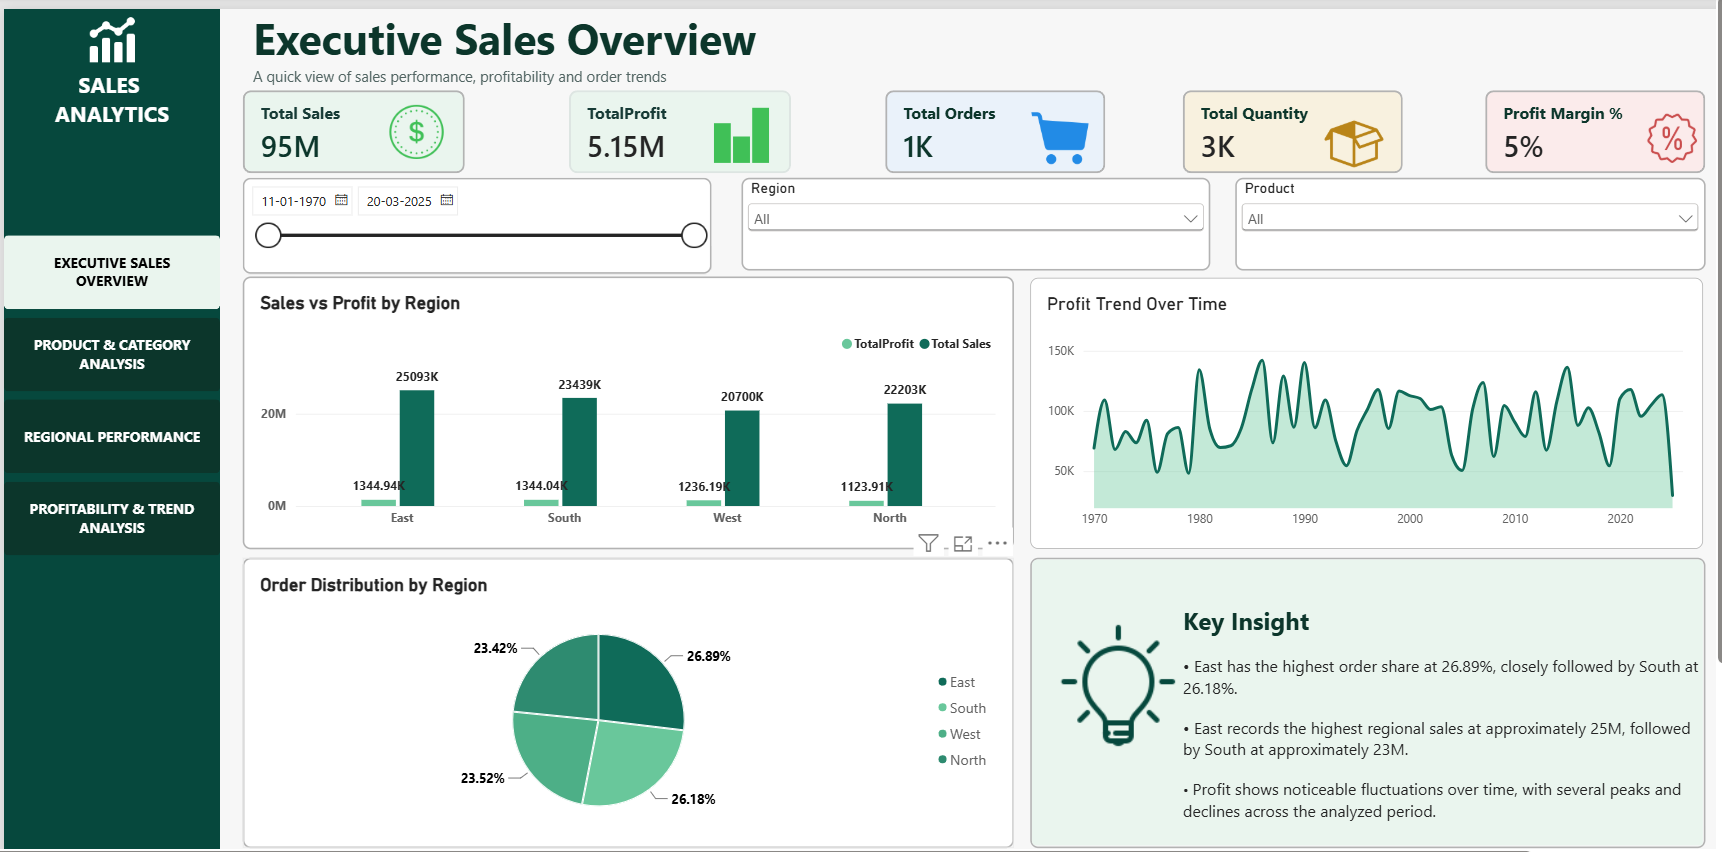

This screenshot's page, from the dashboard's own definition file:
{"tool":"powerbi","page":{"name":"EXECUTIVE SALES OVERVIEW   ","canvas":[1920,1080],"ordinal":1},"visuals":[{"type":"cardVisual","fields":{"Data":["SalesData_1000Rows_WithIssues_copy.Total Sales"]},"box":[238.8,81.2,222.5,83.8],"z":0},{"type":"cardVisual","fields":{"Data":["SalesData_1000Rows_WithIssues_copy.TotalProfit"]},"box":[565,81.2,222.5,83.8],"z":1000},{"type":"cardVisual","fields":{"Data":["SalesData_1000Rows_WithIssues_copy.Total Orders"]},"box":[881.2,81.2,220,83.8],"z":2000},{"type":"cardVisual","fields":{"Data":["SalesData_1000Rows_WithIssues_copy.Total Quantity"]},"box":[1178.8,81.2,220,83.8],"z":3000},{"type":"cardVisual","fields":{"Data":["SalesData_1000Rows_WithIssues_copy.Profit Margin %"]},"box":[1481.2,81.2,220,83.8],"z":4000},{"type":"slicer","fields":{"Values":["SalesData_1000Rows_WithIssues_copy.Region"]},"box":[737.5,168.8,468.8,92.5],"z":5000},{"type":"slicer","fields":{"Values":["SalesData_1000Rows_WithIssues_copy.Product"]},"box":[1231.2,168.8,470,92.5],"z":6000},{"type":"slicer","fields":{"Values":["SalesData_1000Rows_WithIssues_copy.OrderDate"]},"box":[238.8,168.8,468.8,96.2],"z":7000},{"type":"clusteredColumnChart","title":"Sales vs Profit by Region","fields":{"Category":["SalesData_1000Rows_WithIssues_copy.Region"],"Y":["SalesData_1000Rows_WithIssues_copy.TotalProfit","SalesData_1000Rows_WithIssues_copy.Total Sales"]},"box":[238.8,267.5,771.2,272.5],"z":8000},{"type":"areaChart","title":"Profit Trend Over Time","fields":{"Category":["SalesData_1000Rows_WithIssues_copy.OrderDate.Variation.Date Hierarchy.Year","SalesData_1000Rows_WithIssues_copy.OrderDate.Variation.Date Hierarchy.Quarter","SalesData_1000Rows_WithIssues_copy.OrderDate.Variation.Date Hierarchy.Month"],"Y":["SalesData_1000Rows_WithIssues_copy.TotalProfit"]},"box":[1026.2,268.8,672.5,271.2],"z":9000},{"type":"pieChart","title":"Order Distribution by Region","fields":{"Category":["SalesData_1000Rows_WithIssues_copy.Region"],"Y":["CountNonNull(SalesData_1000Rows_WithIssues_copy.OrderID)"]},"box":[238.8,548.8,771.2,290],"z":10000},{"type":"shape","box":[0,0,216.2,858.8],"z":11000},{"type":"image","box":[66.2,0,83.8,61.2],"z":12000},{"type":"textbox","box":[0,61.2,216.2,60],"z":13000},{"type":"textbox","box":[248.8,0,1521.2,81.2],"z":14000},{"type":"image","box":[373.8,73.8,77.5,98.8],"z":15000},{"type":"image","box":[707.5,87.5,60,72.5],"z":16000},{"type":"image","box":[1026.2,78.8,63.8,101.2],"z":17000},{"type":"image","box":[1320,92.5,60,72.5],"z":18000},{"type":"image","box":[1635,102.5,66.2,53.8],"z":19000},{"type":"shape","box":[1026.2,548.8,675,290],"z":20000},{"type":"textbox","box":[1178.8,595,542.5,243.8],"z":21000},{"type":"pageNavigator","box":[0,226.2,216.2,322.5],"z":22000},{"type":"image","box":[1050,595,128.8,165],"z":23000}]}

Visuals, with their boxes on the page's 1920x1080 design canvas (x1, y1, x2, y2). These are canvas units, not pixel positions in the 1722x852 screenshot, which may show the page scaled, cropped or inside an application window:
cardVisual - SalesData_1000Rows_WithIssues_copy.Total Sales: bbox(239, 81, 461, 165)
cardVisual - SalesData_1000Rows_WithIssues_copy.TotalProfit: bbox(565, 81, 788, 165)
cardVisual - SalesData_1000Rows_WithIssues_copy.Total Orders: bbox(881, 81, 1101, 165)
cardVisual - SalesData_1000Rows_WithIssues_copy.Total Quantity: bbox(1179, 81, 1399, 165)
cardVisual - SalesData_1000Rows_WithIssues_copy.Profit Margin %: bbox(1481, 81, 1701, 165)
slicer - SalesData_1000Rows_WithIssues_copy.Region: bbox(738, 169, 1206, 261)
slicer - SalesData_1000Rows_WithIssues_copy.Product: bbox(1231, 169, 1701, 261)
slicer - SalesData_1000Rows_WithIssues_copy.OrderDate: bbox(239, 169, 708, 265)
"Sales vs Profit by Region" clusteredColumnChart: bbox(239, 268, 1010, 540)
"Profit Trend Over Time" areaChart: bbox(1026, 269, 1699, 540)
"Order Distribution by Region" pieChart: bbox(239, 549, 1010, 839)
shape: bbox(0, 0, 216, 859)
image: bbox(66, 0, 150, 61)
textbox: bbox(0, 61, 216, 121)
textbox: bbox(249, 0, 1770, 81)
image: bbox(374, 74, 451, 173)
image: bbox(708, 88, 768, 160)
image: bbox(1026, 79, 1090, 180)
image: bbox(1320, 92, 1380, 165)
image: bbox(1635, 102, 1701, 156)
shape: bbox(1026, 549, 1701, 839)
textbox: bbox(1179, 595, 1721, 839)
pageNavigator: bbox(0, 226, 216, 549)
image: bbox(1050, 595, 1179, 760)
